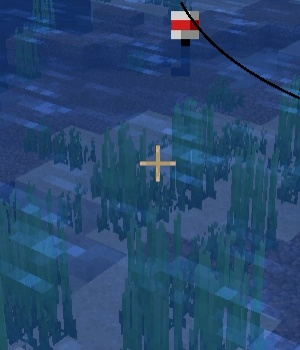up: (165, 4, 205, 83)
